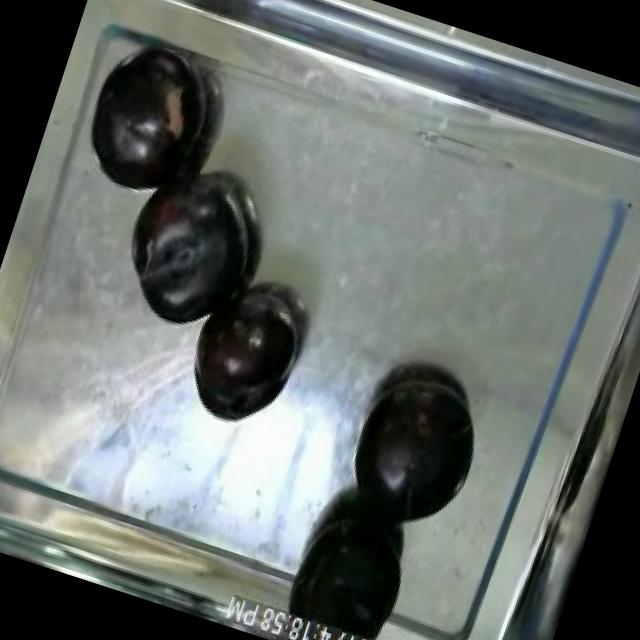Fruit: (104, 165, 276, 348), (332, 356, 500, 542), (68, 42, 224, 214), (174, 292, 312, 438)
